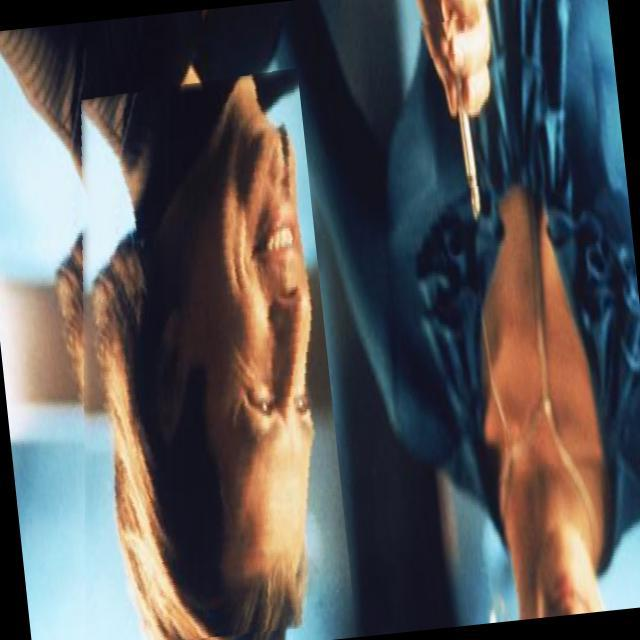cigarette: (419, 16, 504, 258)
